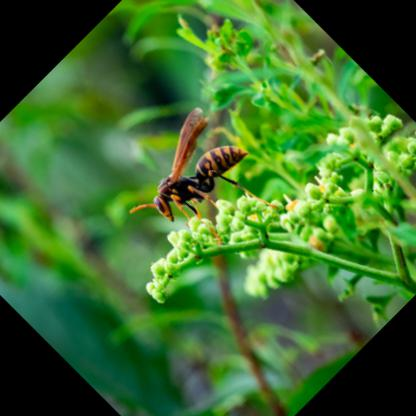asian: (105, 96, 278, 268)
